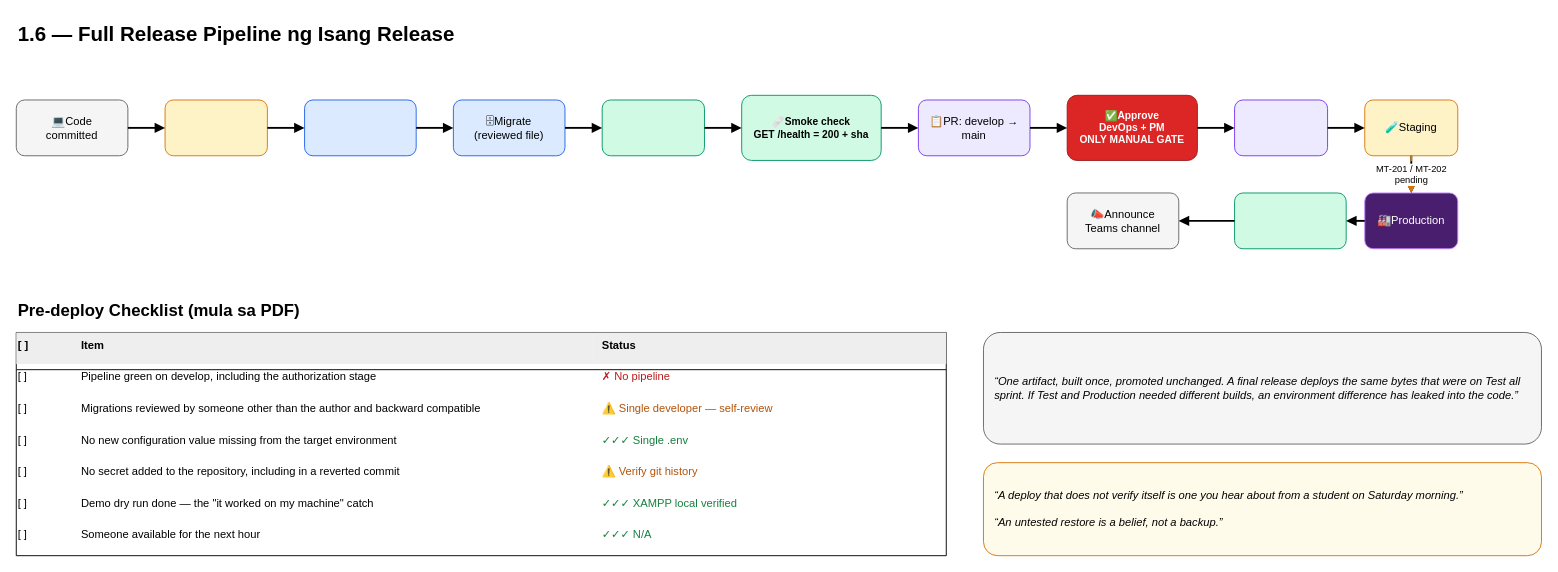
This 1558x572 diagram has some shape labels left out. The shapes that lost their labels are listed below. From the top down, each one's centre as x and y in pixels, then its label:
the point at 215,127: 🌱‍push to develop
the point at 360,127: ⚙‍Pipeline Stages 1–6
the point at 652,127: 🚀‍Deploy → Test
the point at 1281,127: 🏷‍Tag v0.n.0
the point at 1290,220: ✅‍Verify 3 journeys by hand
